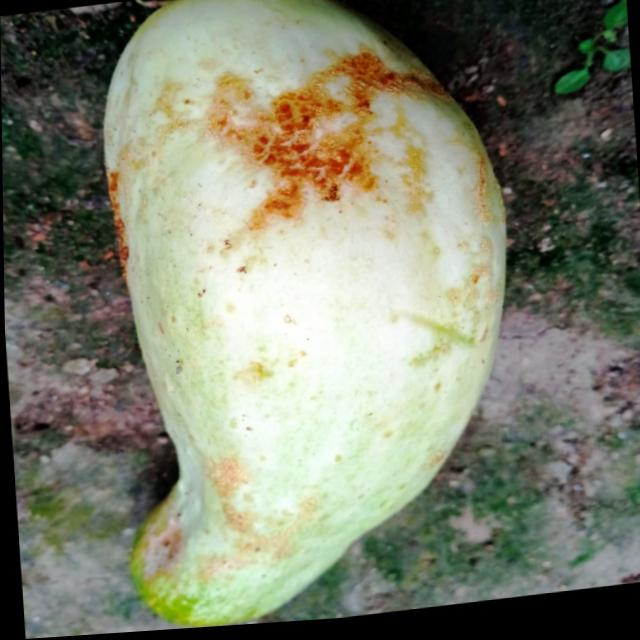Belly-Rot: (198, 44, 444, 256), (133, 449, 290, 598), (101, 147, 148, 288), (469, 158, 500, 313)
